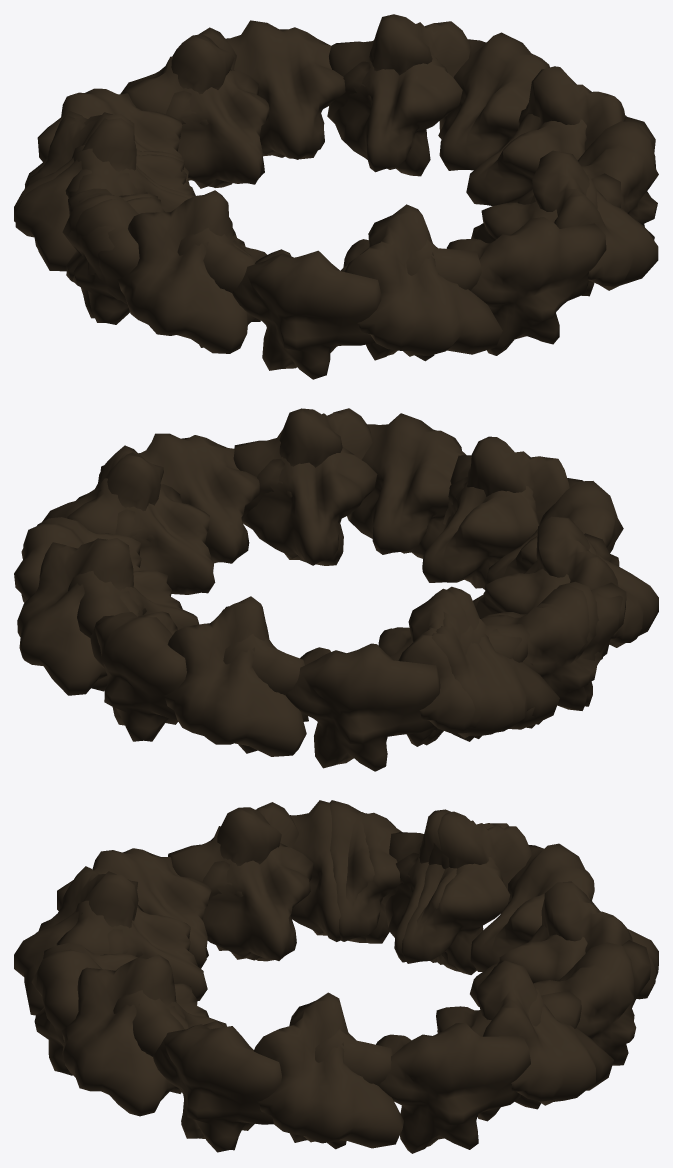
Rendered from dig_spot.fbx.
The picture shows the model from 3 angles, top to bottom: view 1: azimuth 30°, elevation 25°; view 2: azimuth 150°, elevation 25°; view 3: azimuth 270°, elevation 25°; orthographic projection.
Visible parts, largest first — view 1: DigSpot; view 2: DigSpot; view 3: DigSpot.
Part boxes in pixels (left/top/right/bottom): DigSpot: left=14, top=14, right=658, bottom=379; DigSpot: left=14, top=408, right=658, bottom=771; DigSpot: left=14, top=800, right=658, bottom=1153.
Size of the model in its own units: 159 by 41.3 by 160.
